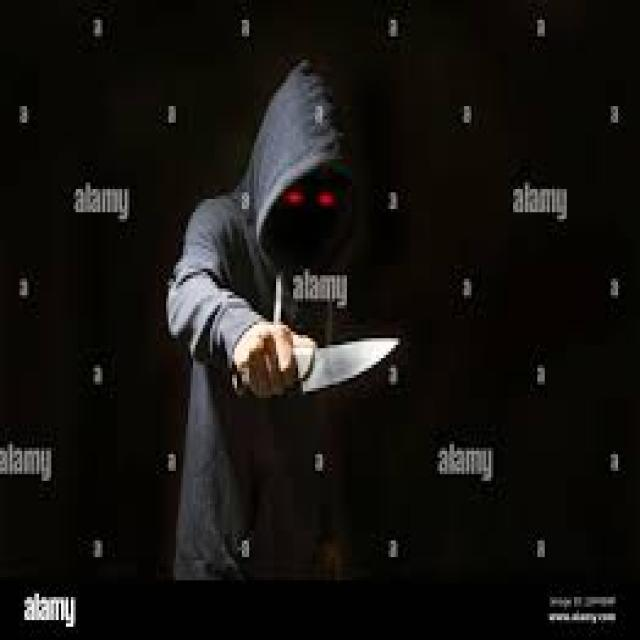faca: (222, 292, 410, 422)
